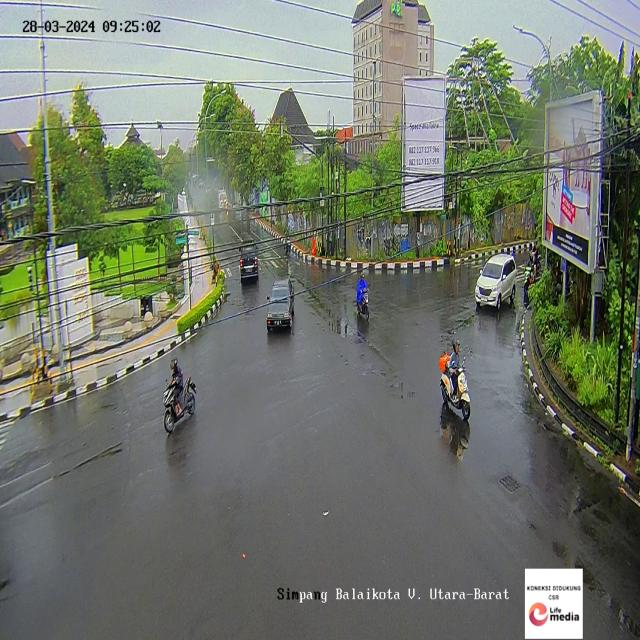car: (475, 252, 514, 312), (266, 280, 294, 334), (240, 240, 260, 284)
motorcycle: (439, 338, 472, 431), (162, 350, 195, 439), (356, 272, 372, 315), (524, 254, 537, 296), (282, 228, 291, 259)
